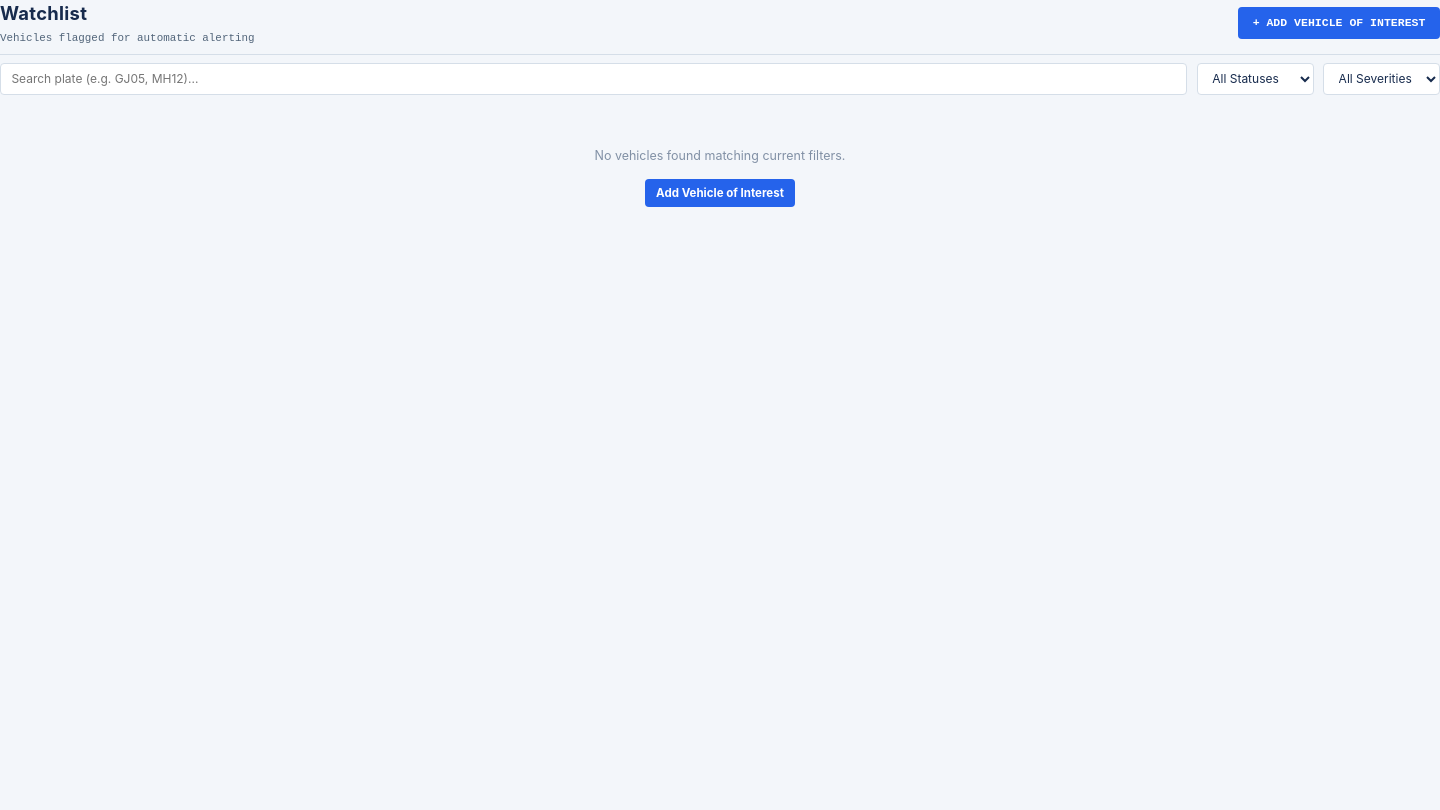
WatchlistManager Component Tests › 8: Displays 409 duplicate plate conflict error cleanly
Expected: the text "No vehicles found matching current filters." is shown, [595, 148, 846, 163]
Step 1. Click the button "+ ADD VEHICLE OF INTEREST" → [1339, 23], box [1238, 7, 1439, 39]
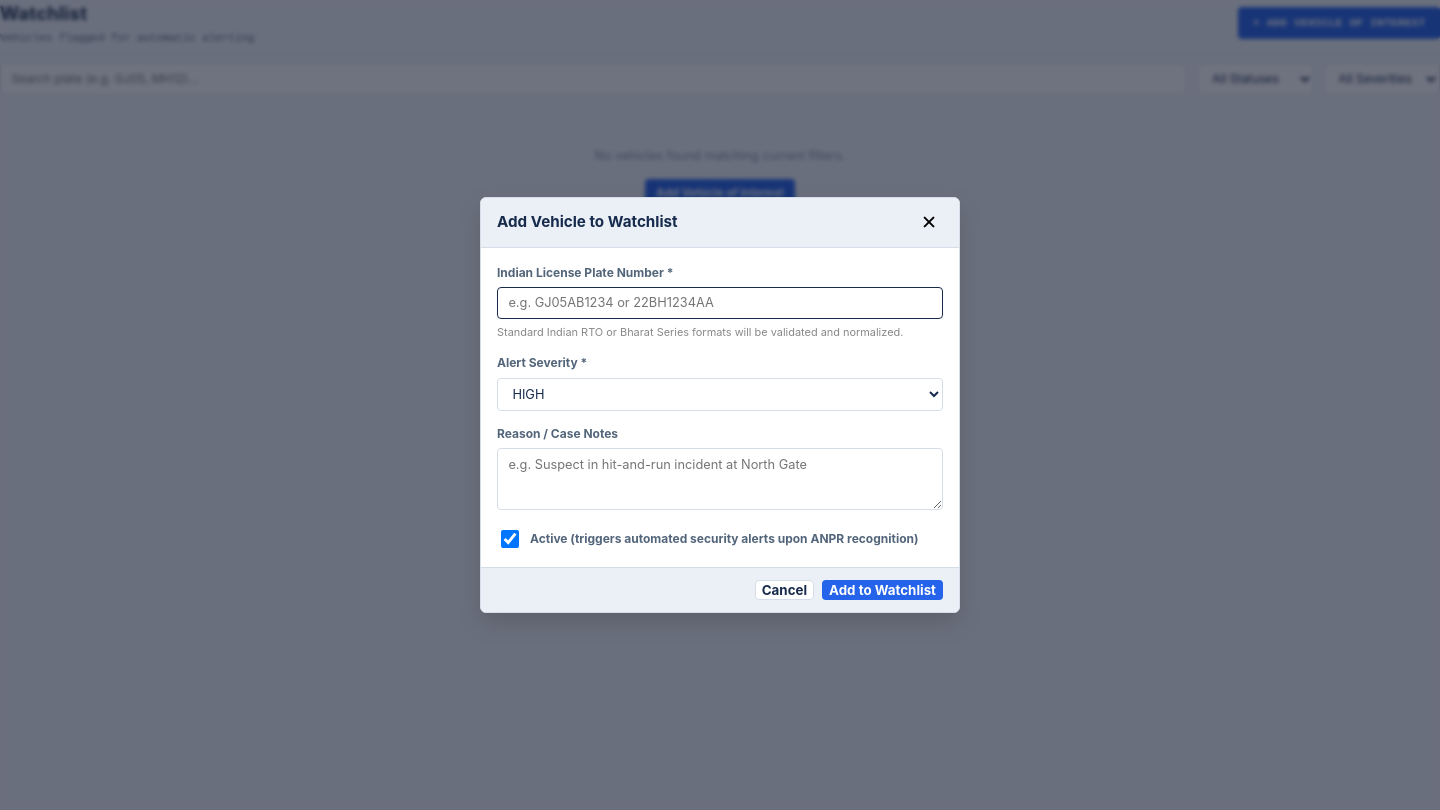
Step 2. Type "GJ05AB1234" into the field labelled "Indian License Plate Number *" → [720, 303], box [497, 287, 943, 319]
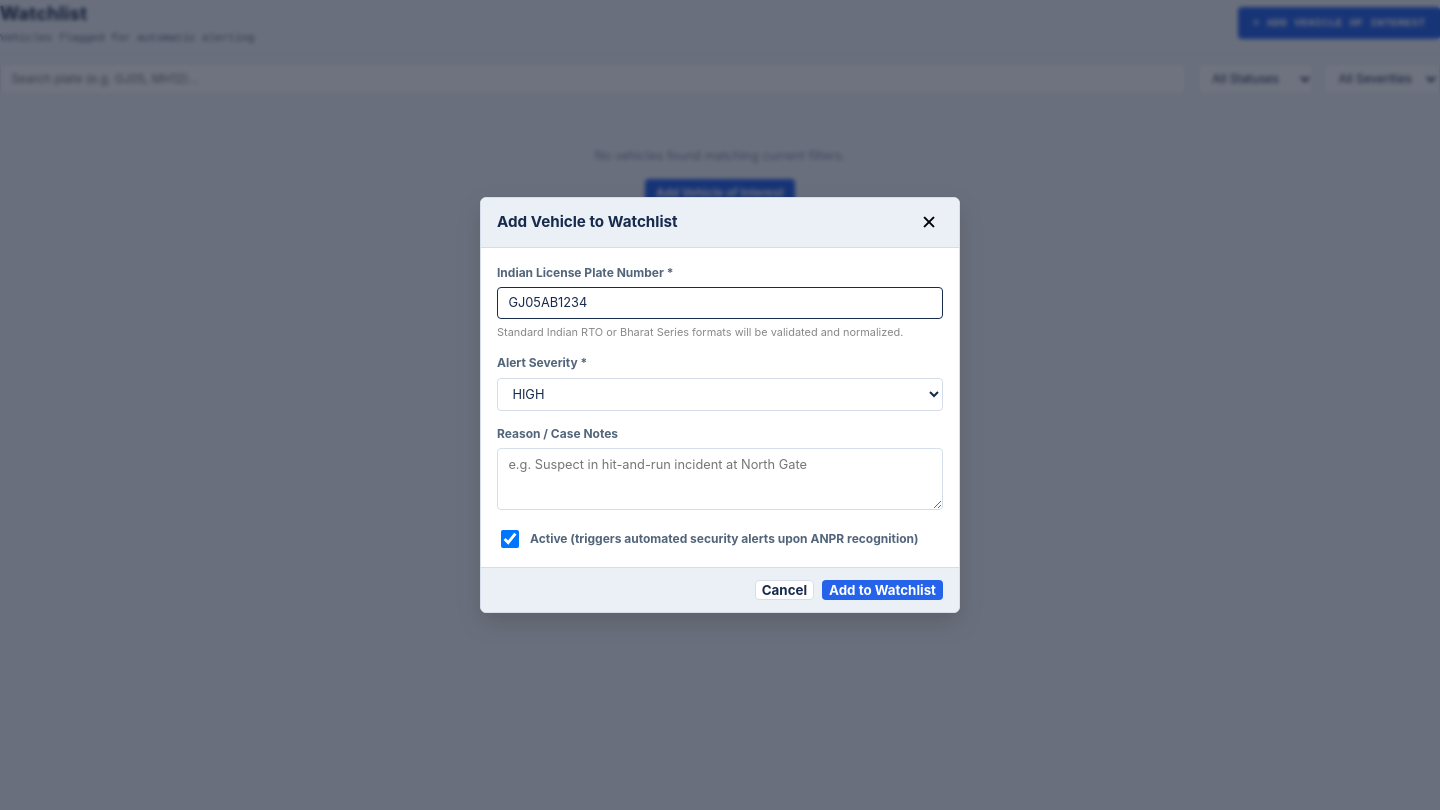
Step 3. Click the button "Add to Watchlist" → [882, 590], box [822, 580, 943, 600]
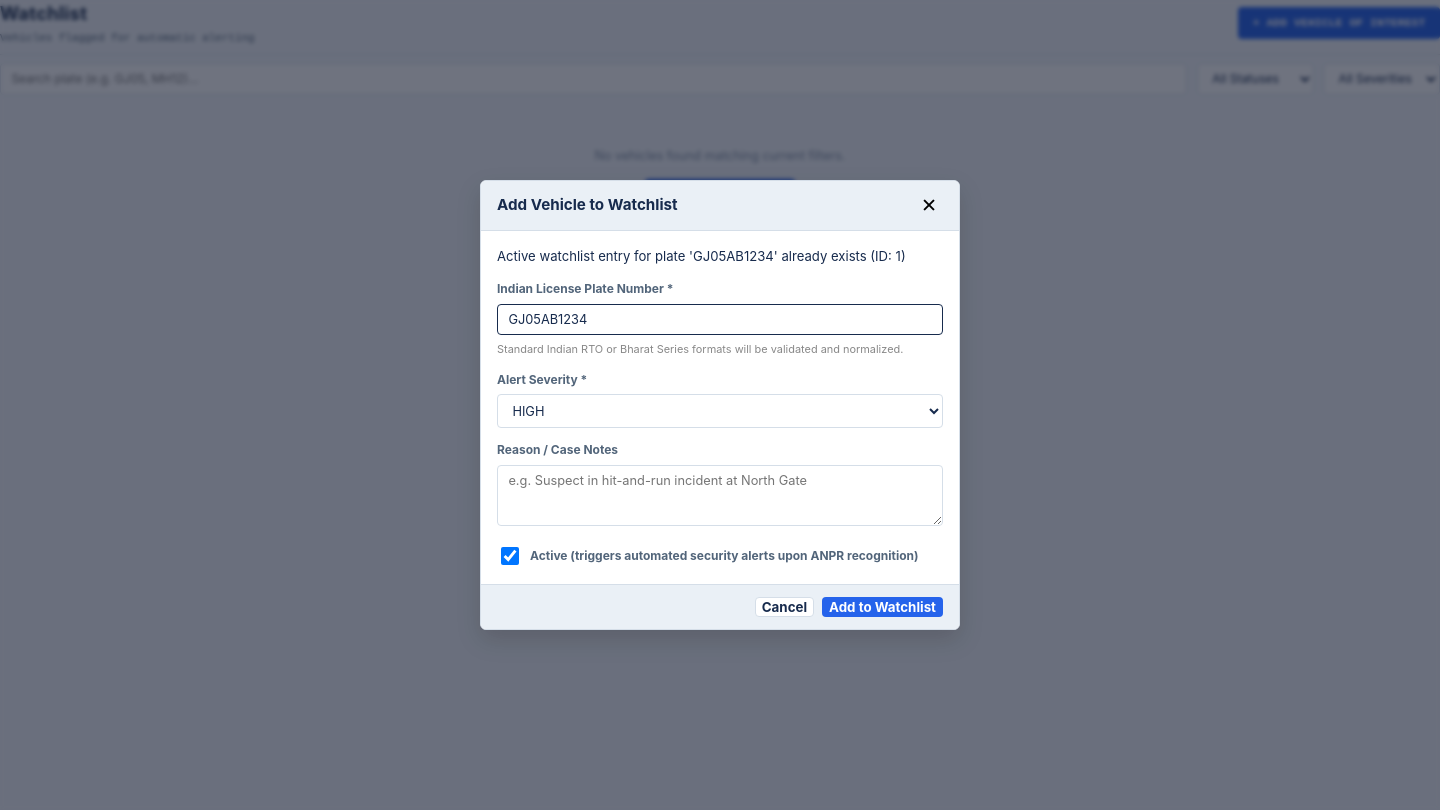
Now the text "Active watchlist entry for plate 'GJ05AB1234' already exists (ID: 1)" is shown, box [497, 247, 943, 267]
